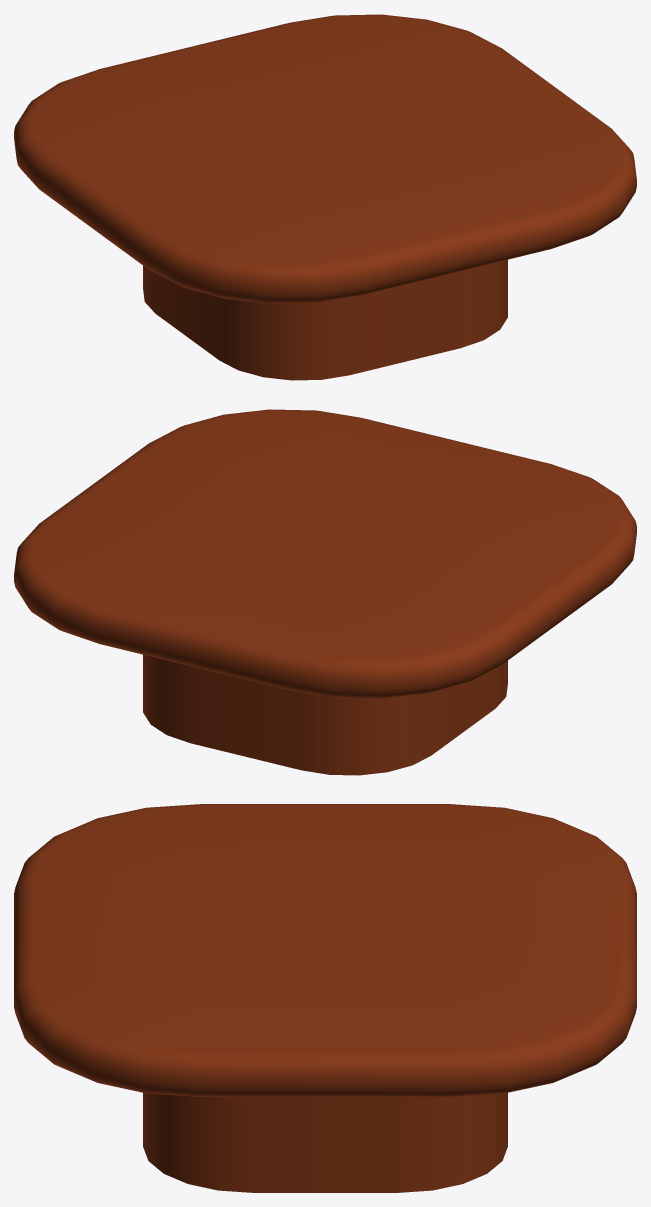
File: CoffeeTable_Sq_Plastic2.glb
The picture shows the model from 3 angles, top to bottom: view 1: azimuth 30°, elevation 25°; view 2: azimuth 150°, elevation 25°; view 3: azimuth 270°, elevation 25°; orthographic projection. The views are drawn at different scales.
Parts seen in each view (by area): view 1: Cube.007, Cube; view 2: Cube.007, Cube; view 3: Cube.007, Cube.
Part boxes in pixels (left/top/right/bottom): Cube.007: left=14, top=14, right=636, bottom=303; Cube: left=143, top=259, right=507, bottom=380; Cube.007: left=14, top=409, right=636, bottom=698; Cube: left=143, top=654, right=507, bottom=775; Cube.007: left=14, top=804, right=636, bottom=1096; Cube: left=143, top=1093, right=507, bottom=1192.
Size of the model in its own units: 1.53 by 0.5061 by 1.53.
Materials: 1 (1 with a texture image).
